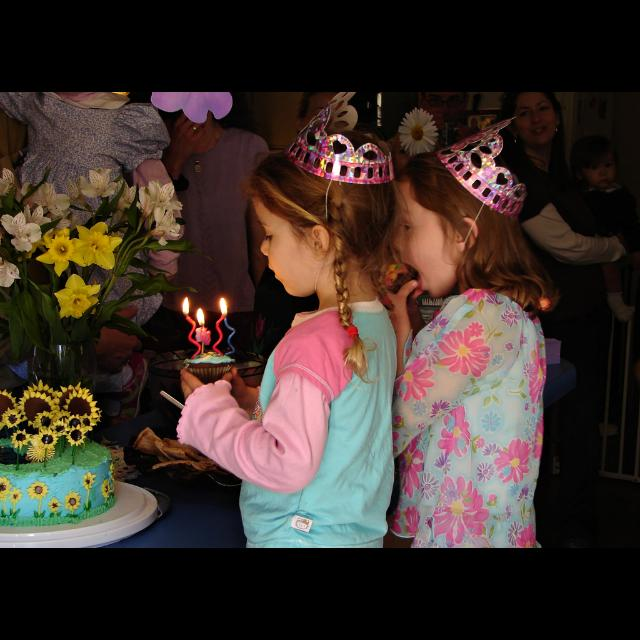Flower: (0, 169, 184, 319), (400, 104, 456, 146)
